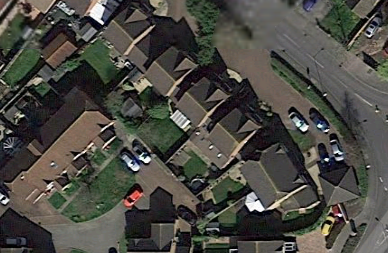tree: (138, 89, 179, 126)
